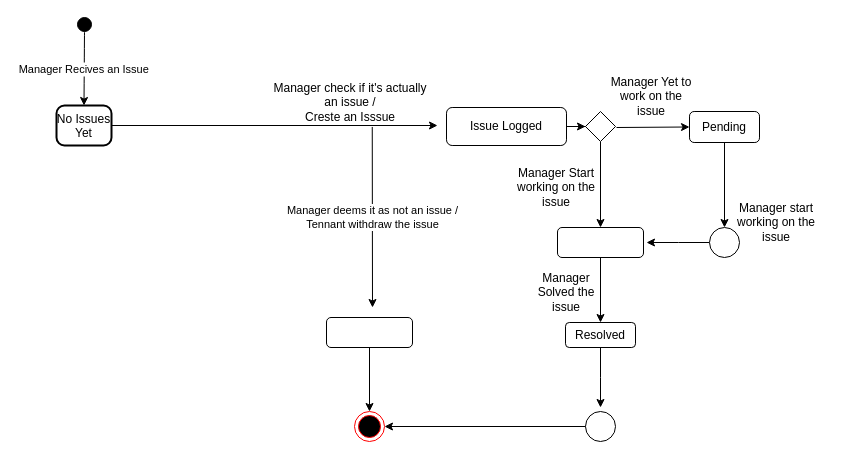
The diagram is 843 pixels wide and 459 high, and some of its shapes have lost their labels. Here are the shapes that lost their labels. From the top down, the centre of each, then its label:
At [600,242]: "In-progress".
At [369,332]: "Cancelled".
